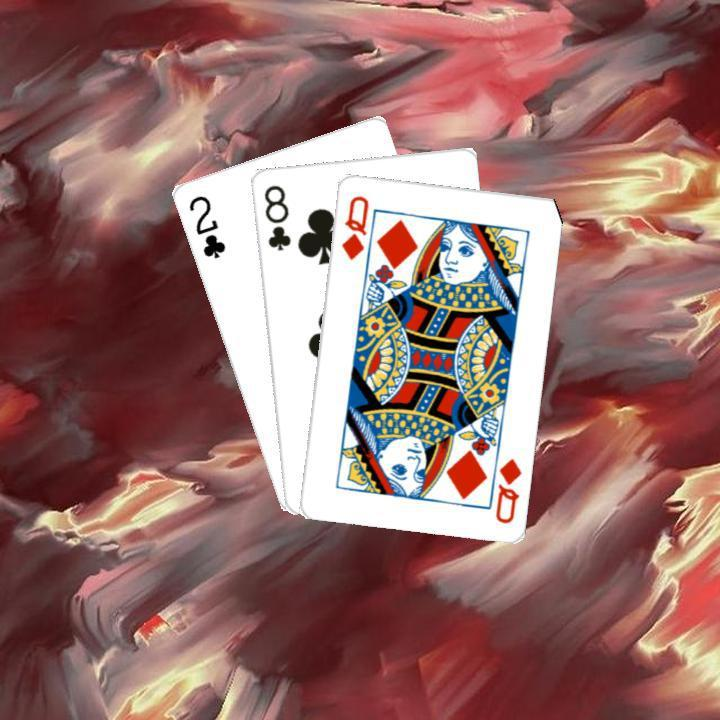2: (183, 190, 227, 260)
8: (259, 180, 293, 252)
Q: (336, 191, 371, 262), (490, 453, 524, 525)
